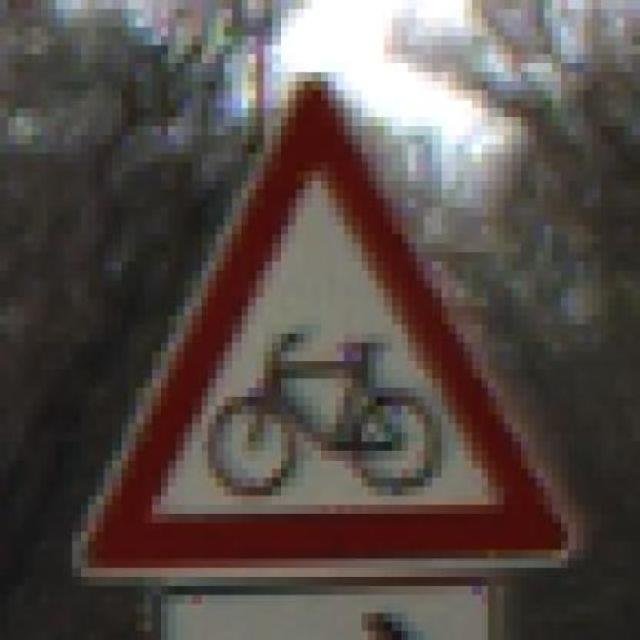CYCLE ROUTE AHEAD WARNING: (56, 55, 593, 588)
